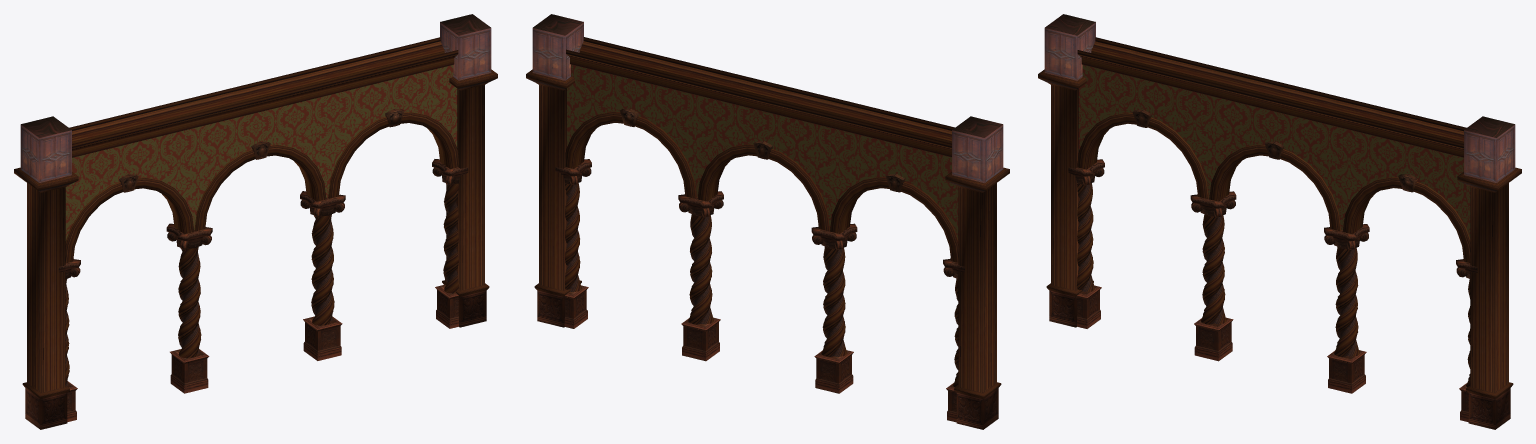
File: ThreeArches.fbx
The picture shows the model from 3 angles, left to right: view 1: azimuth 30°, elevation 25°; view 2: azimuth 150°, elevation 25°; view 3: azimuth 330°, elevation 25°; orthographic projection.
Parts seen in each view (by area): view 1: Column Wall Section_LOD0; view 2: Column Wall Section_LOD0; view 3: Column Wall Section_LOD0.
Part boxes in pixels (<box>): Column Wall Section_LOD0: <box>14,14,497,429</box>; Column Wall Section_LOD0: <box>526,14,1009,429</box>; Column Wall Section_LOD0: <box>1038,14,1521,429</box>.
Size of what is drawn, in the model's own units: 489 by 299 by 43.54.
